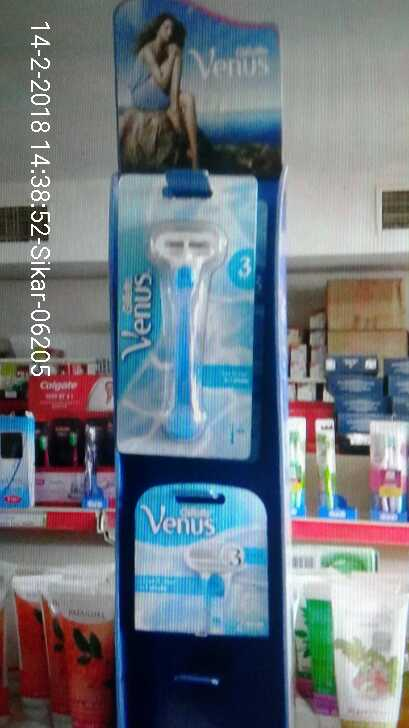venus: (131, 195, 235, 449), (128, 482, 268, 640)
